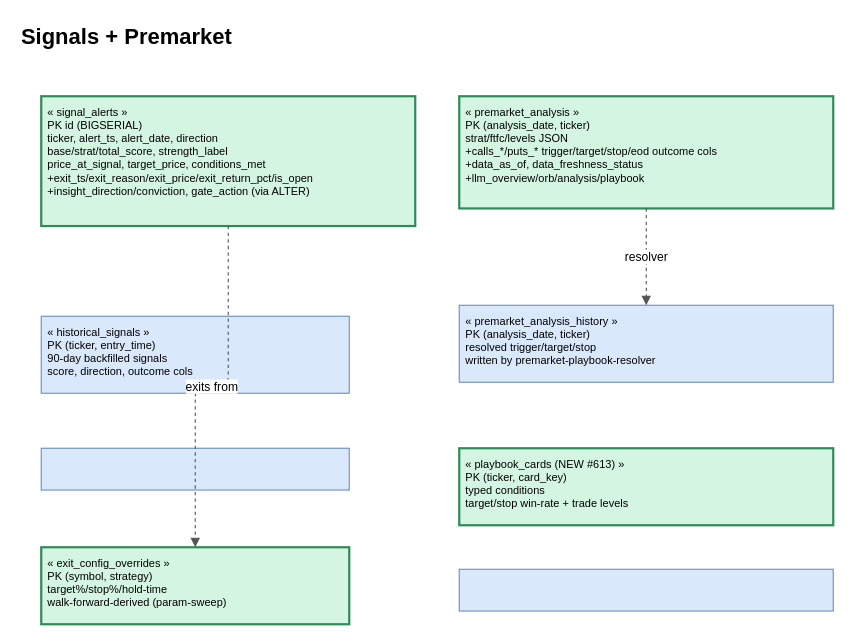
Some shapes in this 853 by 644 pixel diagram are drawn without their labels. Here are the shapes that lost their labels. From the top down, the box of each, then its label:
(40, 447, 349, 490): « signal_metrics » per-strategy clean-rate / counts
(458, 568, 833, 611): « strat_levels » support/resistance levels from structure
